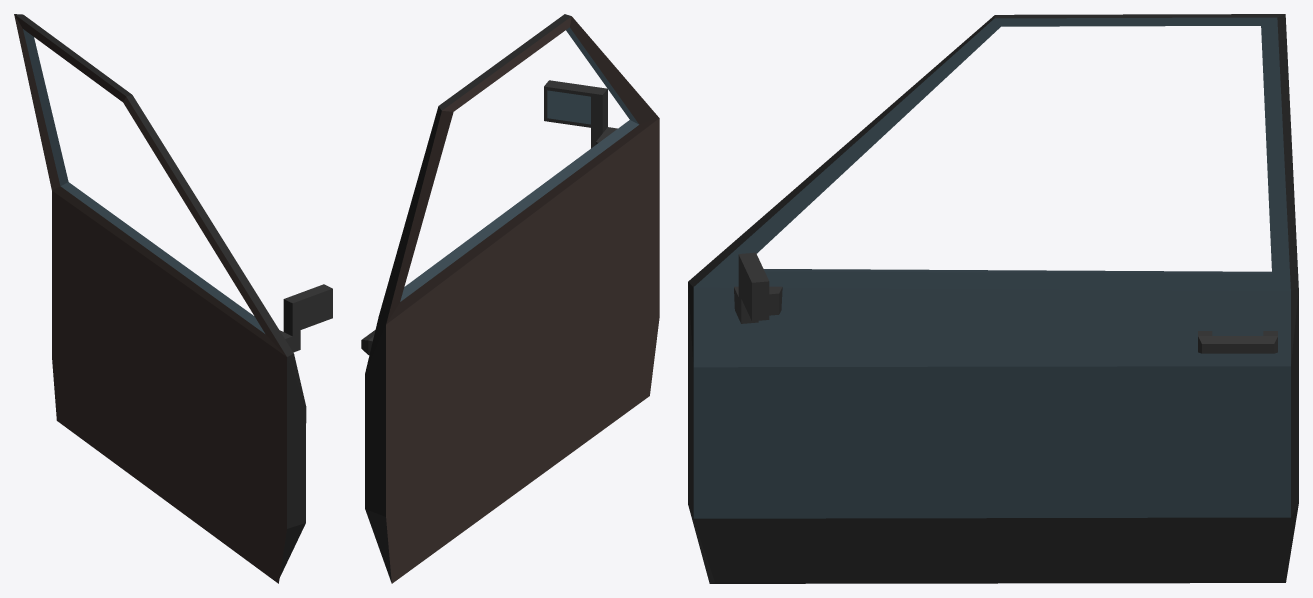
File: puertaL.glb
The picture shows the model from 3 angles, left to right: view 1: azimuth 30°, elevation 25°; view 2: azimuth 150°, elevation 25°; view 3: azimuth 270°, elevation 25°; orthographic projection. The views are drawn at different scales.
Visible parts, largest first — view 1: door l; view 2: door l; view 3: door l.
Part boxes in pixels (bbox=[...]): door l: bbox=[14, 14, 332, 583]; door l: bbox=[361, 14, 659, 583]; door l: bbox=[688, 14, 1298, 583].
Bounding box in the file's own units: 0.403 × 1.41 × 1.44.
1 material, 1 textured.
